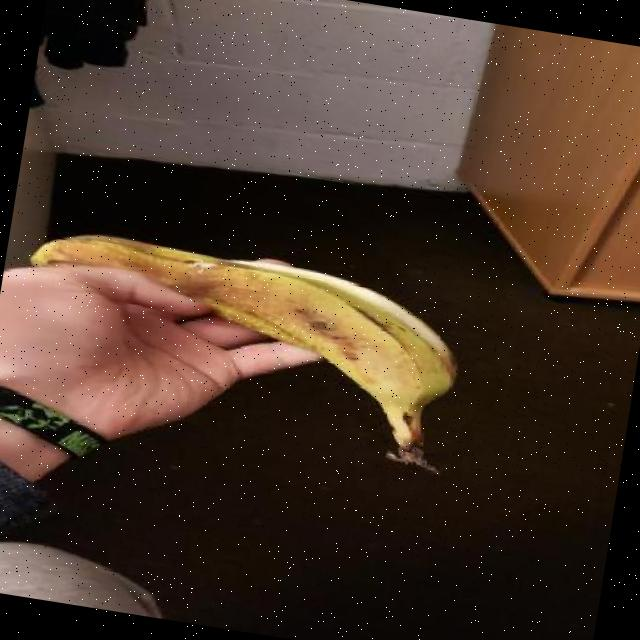banana-peel: (4, 217, 473, 476)
